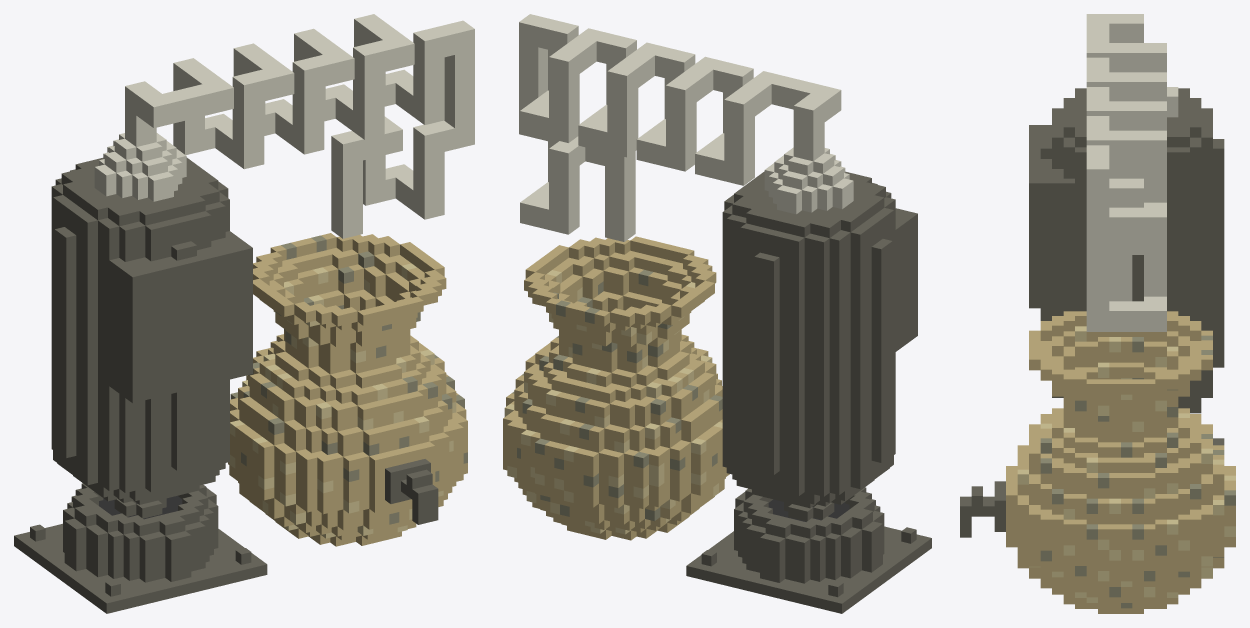
File: SUB Station.obj
3 views of the same model, side by side, from view 1: azimuth 30°, elevation 25°; view 2: azimuth 150°, elevation 25°; view 3: azimuth 270°, elevation 25° (orthographic). The views are drawn at different scales.
Size of the model in its own units: 39 by 45 by 24.
Materials: 1 (1 with a texture image).
